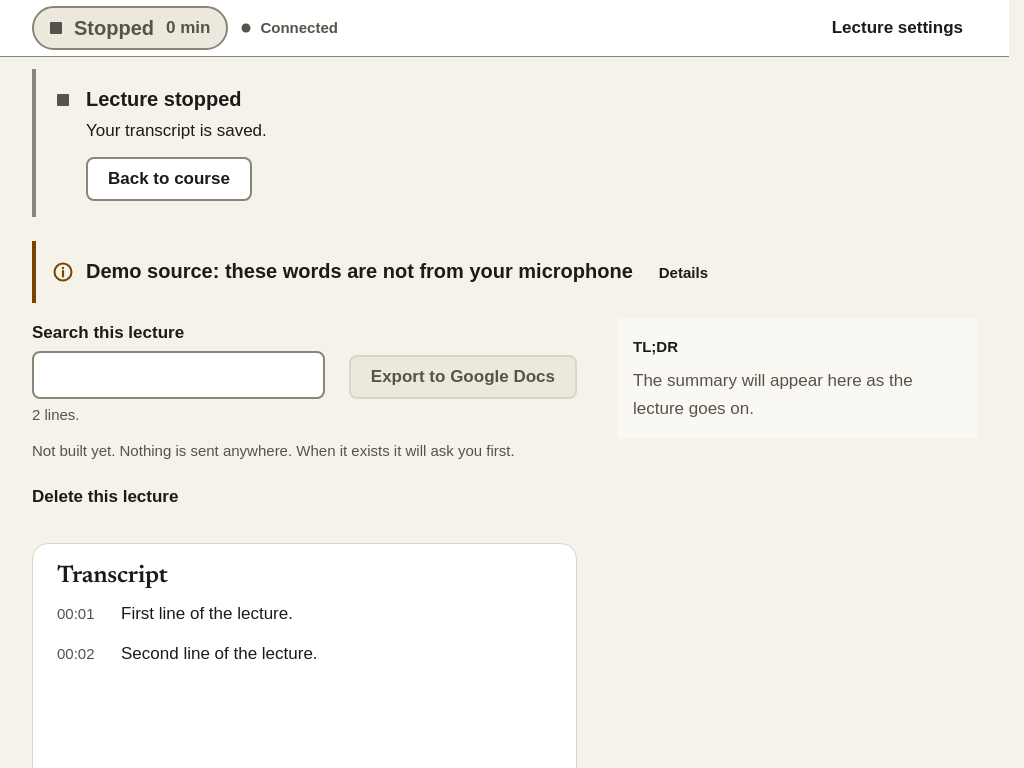
Test: Delete this lecture › network failure and the lecture is still there: the network line
The width and height of the screenshot is (1024, 768).
Click the button "Delete this lecture": (105, 497) [18,475,192,519]
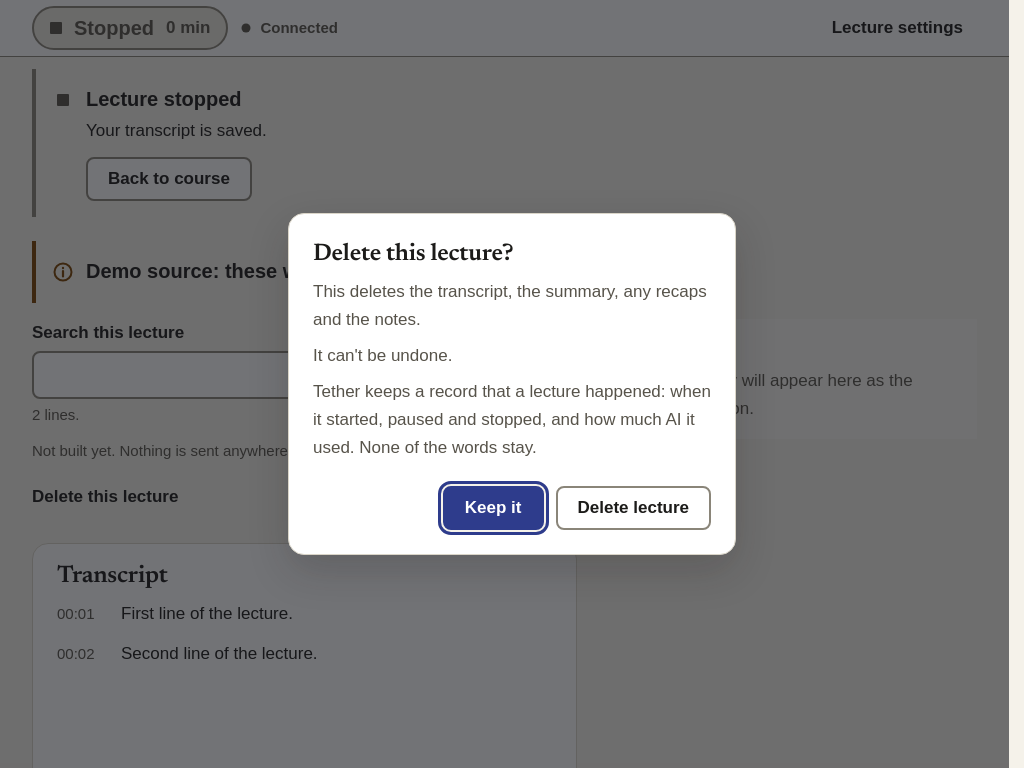
Click the button "Delete lecture": (633, 508) [556,486,711,530]
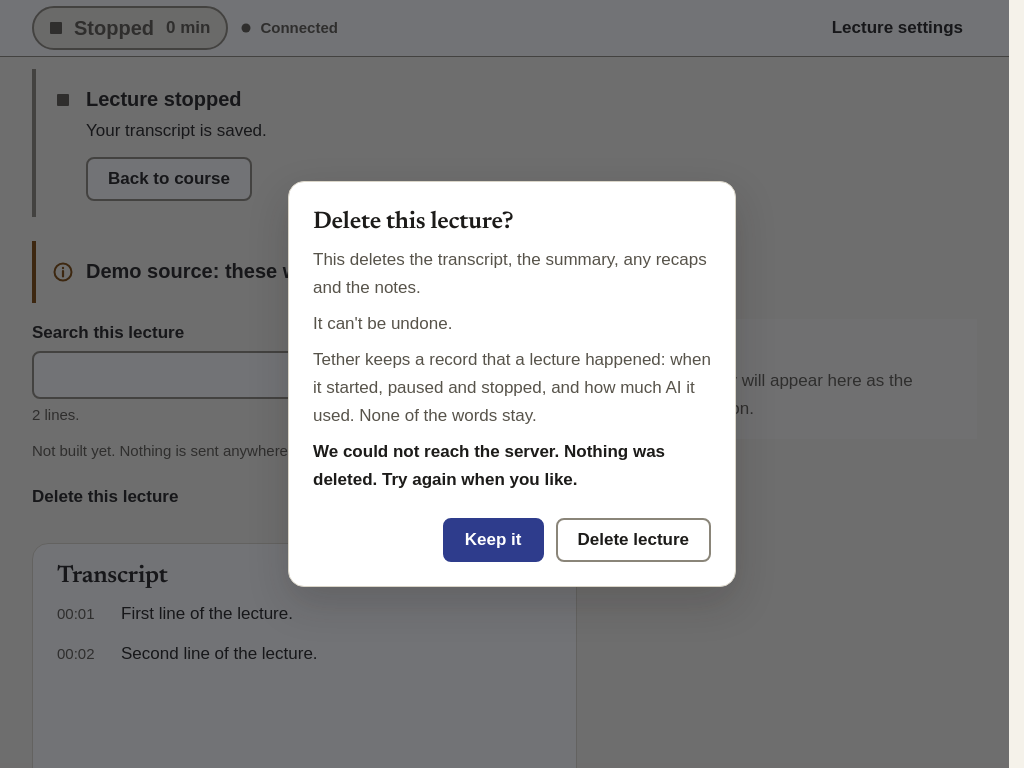
Check: the text "We could not reach the server. Nothing was deleted. Try again when you like." is shown, box [313,438,711,494]
